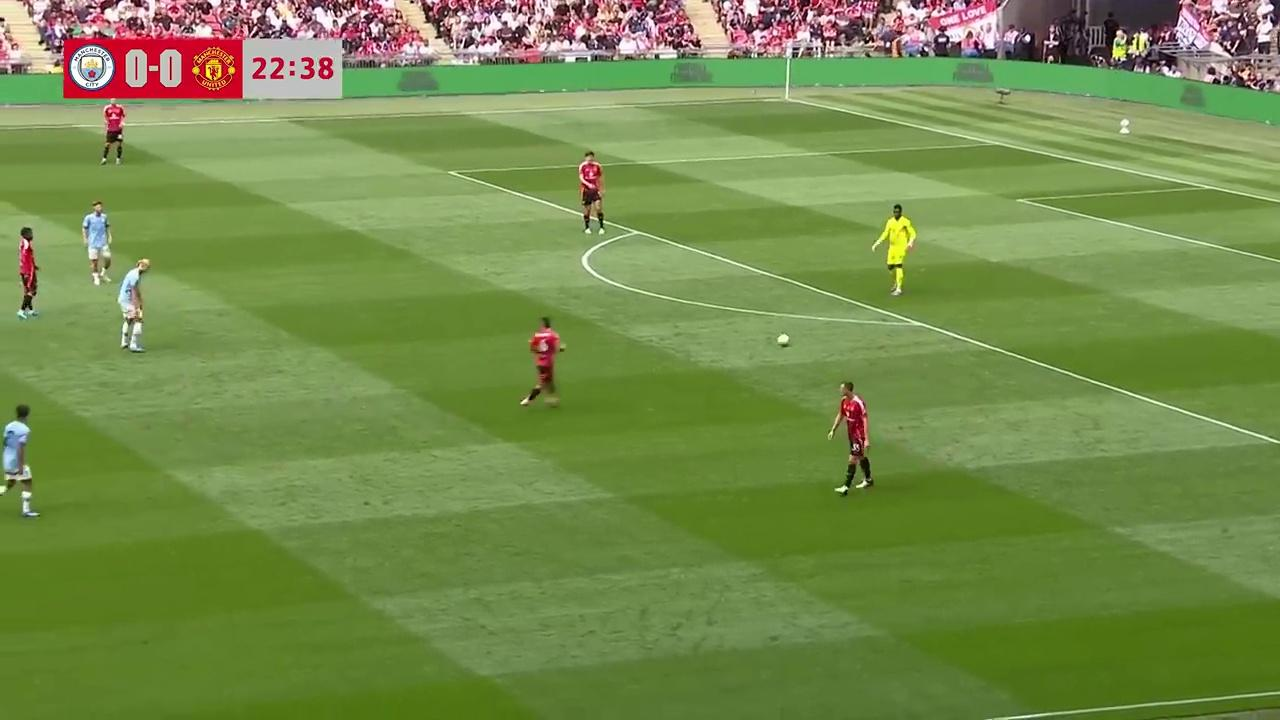ball: (775, 330, 791, 347)
player: (827, 381, 874, 496), (0, 403, 37, 519), (520, 317, 566, 409), (871, 203, 915, 296), (118, 258, 149, 352), (80, 199, 112, 286), (17, 226, 40, 319), (579, 159, 605, 235), (101, 101, 126, 165)
